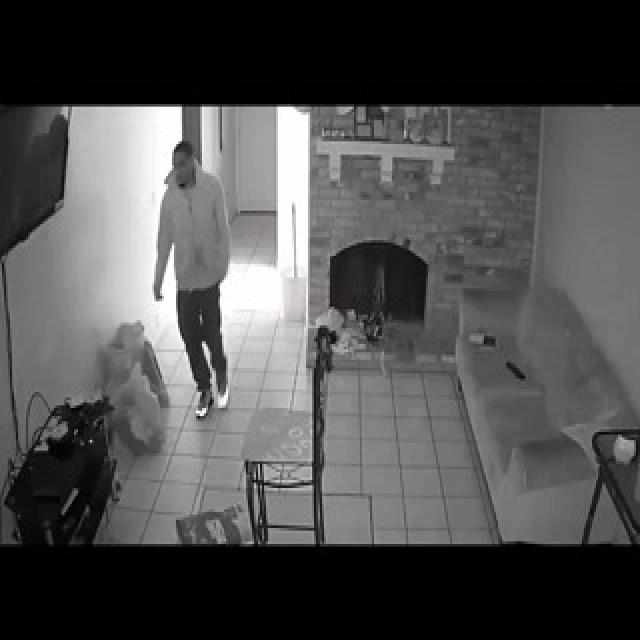thief: (147, 122, 240, 257)
